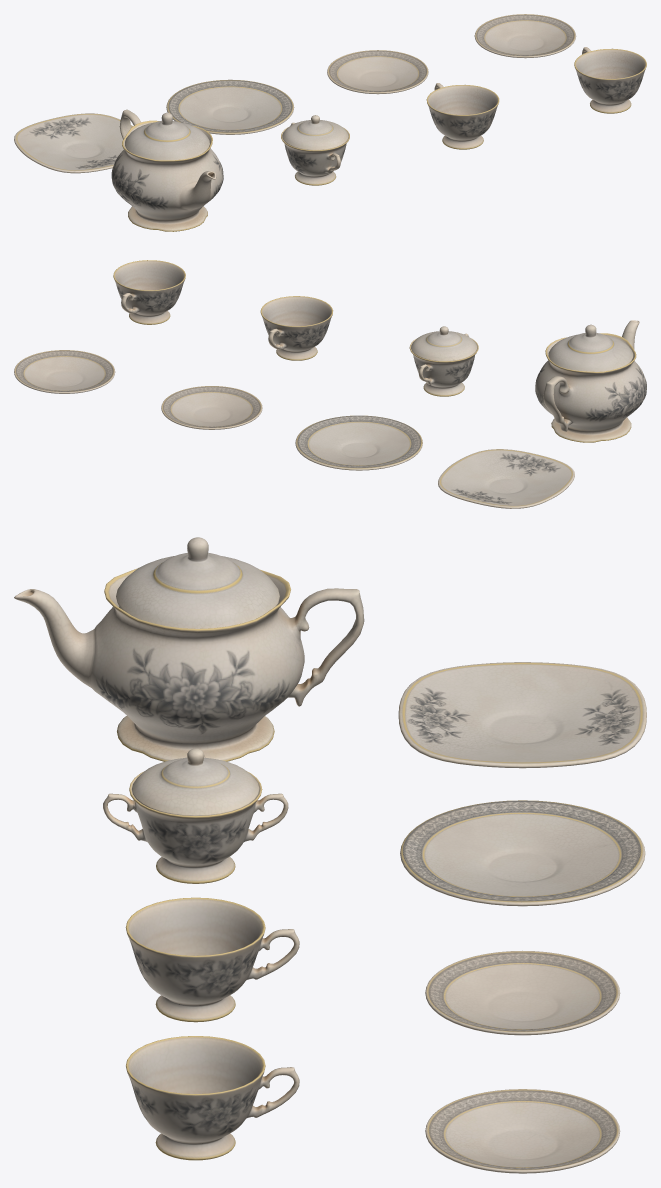
File: tea_set_01.glb
The picture shows the model from 3 angles, top to bottom: view 1: azimuth 30°, elevation 25°; view 2: azimuth 150°, elevation 25°; view 3: azimuth 270°, elevation 25°; orthographic projection. The views are drawn at different scales.
Visible parts, largest first — view 1: tea_set_01_teapot_01, tea_set_01_plate_large_circular_03, tea_set_01_plate_large_square_01, tea_set_01_cup_small_01, tea_set_01_cup_small_02, tea_set_01_saucer_circular_03, tea_set_01_saucer_circular_04, tea_set_01_teapot_01_lid, tea_set_01_sugar_cup_01, tea_set_01_sugar_cup_01_lid; view 2: tea_set_01_teapot_01, tea_set_01_plate_large_square_01, tea_set_01_plate_large_circular_03, tea_set_01_cup_small_01, tea_set_01_cup_small_02, tea_set_01_saucer_circular_04, tea_set_01_saucer_circular_03, tea_set_01_teapot_01_lid, tea_set_01_sugar_cup_01, tea_set_01_sugar_cup_01_lid; view 3: tea_set_01_teapot_01, tea_set_01_plate_large_square_01, tea_set_01_plate_large_circular_03, tea_set_01_cup_small_01, tea_set_01_cup_small_02, tea_set_01_saucer_circular_03, tea_set_01_saucer_circular_04, tea_set_01_teapot_01_lid, tea_set_01_sugar_cup_01, tea_set_01_sugar_cup_01_lid.
Boxes of the visible parts, bbox=[...] form: tea_set_01_teapot_01: bbox=[111, 109, 223, 231]; tea_set_01_plate_large_circular_03: bbox=[166, 79, 294, 134]; tea_set_01_plate_large_square_01: bbox=[14, 113, 133, 173]; tea_set_01_cup_small_01: bbox=[426, 83, 499, 149]; tea_set_01_cup_small_02: bbox=[574, 47, 646, 113]; tea_set_01_saucer_circular_03: bbox=[474, 14, 576, 58]; tea_set_01_saucer_circular_04: bbox=[327, 50, 428, 94]; tea_set_01_teapot_01_lid: bbox=[125, 112, 209, 160]; tea_set_01_sugar_cup_01: bbox=[281, 122, 349, 185]; tea_set_01_sugar_cup_01_lid: bbox=[282, 115, 348, 150]; tea_set_01_teapot_01: bbox=[535, 320, 646, 442]; tea_set_01_plate_large_square_01: bbox=[438, 449, 574, 508]; tea_set_01_plate_large_circular_03: bbox=[295, 415, 422, 470]; tea_set_01_cup_small_01: bbox=[260, 296, 333, 360]; tea_set_01_cup_small_02: bbox=[113, 260, 185, 324]; tea_set_01_saucer_circular_04: bbox=[161, 386, 262, 429]; tea_set_01_saucer_circular_03: bbox=[14, 350, 115, 393]; tea_set_01_teapot_01_lid: bbox=[548, 324, 633, 371]; tea_set_01_sugar_cup_01: bbox=[409, 333, 478, 396]; tea_set_01_sugar_cup_01_lid: bbox=[411, 326, 477, 361]; tea_set_01_teapot_01: bbox=[14, 568, 364, 761]; tea_set_01_plate_large_square_01: bbox=[398, 662, 646, 768]; tea_set_01_plate_large_circular_03: bbox=[400, 800, 645, 906]; tea_set_01_cup_small_01: bbox=[125, 897, 299, 1022]; tea_set_01_cup_small_02: bbox=[126, 1036, 299, 1160]; tea_set_01_saucer_circular_03: bbox=[425, 1089, 620, 1173]; tea_set_01_saucer_circular_04: bbox=[425, 950, 620, 1035]; tea_set_01_teapot_01_lid: bbox=[116, 537, 279, 628]; tea_set_01_sugar_cup_01: bbox=[103, 771, 288, 883]; tea_set_01_sugar_cup_01_lid: bbox=[131, 748, 259, 815].
Size of the model in its own units: 0.9185 by 0.165 by 0.4839.
1 material, 1 textured.
